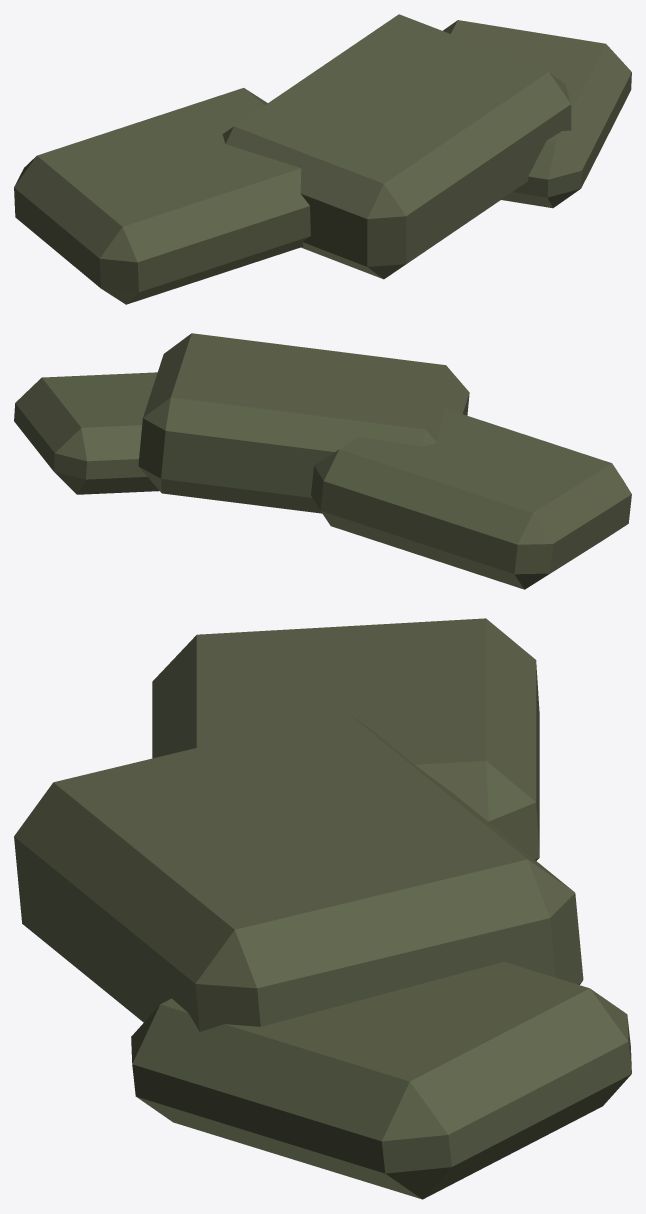
The model's file is prop_curtain_heap.obj.
3 views of the same model, one above another, from view 1: azimuth 30°, elevation 25°; view 2: azimuth 150°, elevation 25°; view 3: azimuth 270°, elevation 25° (orthographic). The views are drawn at different scales.
Visible parts, largest first — view 1: Drapes_1, Drapes_0, Drapes_2; view 2: Drapes_1, Drapes_0, Drapes_2; view 3: Drapes_1, Drapes_2, Drapes_0.
Boxes of the visible parts, x1,y1,x2,y2 form: Drapes_1: (222, 14, 571, 279); Drapes_0: (14, 88, 310, 304); Drapes_2: (443, 20, 631, 208); Drapes_1: (138, 333, 469, 513); Drapes_0: (311, 408, 631, 589); Drapes_2: (14, 372, 159, 494); Drapes_1: (14, 712, 583, 1031); Drapes_2: (131, 962, 631, 1199); Drapes_0: (152, 618, 539, 860).
Size of the model in its own units: 1.95 by 0.4185 by 1.04.
